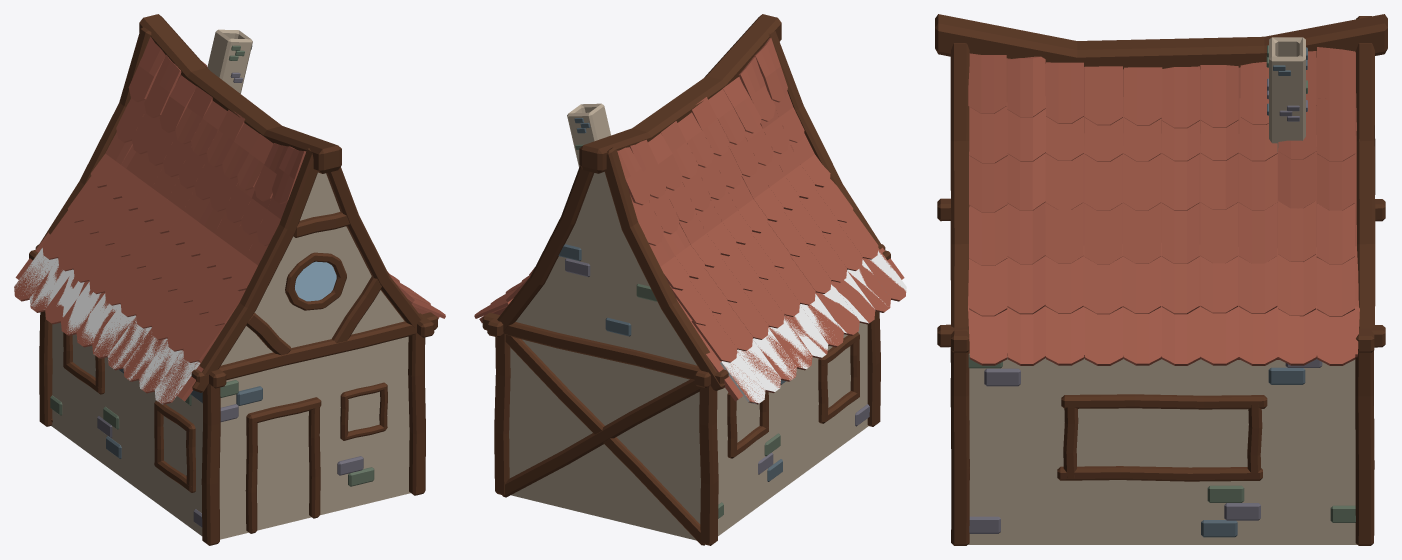
File: Haus_one.fbx
3 renders of one model, left to right at view 1: azimuth 30°, elevation 25°; view 2: azimuth 150°, elevation 25°; view 3: azimuth 270°, elevation 25°, orthographic. The views are drawn at different scales.
Visible parts, largest first — view 1: Cube.124, Plane, Plane.001, Plane.004, Cube.011, Cube.028, Cube.002, Cube, Cube.027, Cube.001, Cube.030, Cube.006 (+20 smaller); view 2: Cube.124, Plane.003, Plane.005, Plane.001, Cube.011, Cube.030, Cube.035, Cube.014, Cube.036, Cube.029, Cube.012, Cube.013 (+12 smaller); view 3: Cube.093, Plane.002, Cube.011, Cube.029, Cube.027, Cube.013, Cube.001, Cube.006, Plane.007, Cube.023, Cube.025, Cube.024 (+9 smaller).
Part boxes in pixels (x1,y1,x2,y2): Cube.124: [14, 36, 306, 404]; Plane: [219, 336, 410, 539]; Plane.001: [51, 322, 202, 535]; Plane.004: [221, 172, 404, 365]; Cube.011: [139, 14, 341, 173]; Cube.028: [192, 148, 317, 392]; Cube.002: [191, 312, 437, 385]; Cube: [201, 384, 220, 545]; Cube.027: [326, 167, 422, 336]; Cube.001: [408, 333, 425, 495]; Cube.030: [37, 27, 151, 247]; Cube.006: [207, 29, 252, 93]; Cube.124: [617, 38, 906, 404]; Plane.003: [509, 339, 700, 540]; Plane.005: [515, 172, 696, 365]; Plane.001: [717, 323, 868, 535]; Cube.011: [579, 14, 781, 173]; Cube.030: [604, 147, 724, 390]; Cube.035: [505, 335, 704, 545]; Cube.014: [482, 312, 728, 384]; Cube.036: [502, 379, 700, 497]; Cube.029: [497, 166, 593, 337]; Cube.012: [699, 385, 718, 545]; Cube.013: [494, 333, 510, 494]; Cube.093: [968, 47, 1355, 365]; Plane.002: [968, 356, 1357, 544]; Cube.011: [935, 14, 1387, 69]; Cube.029: [1356, 43, 1375, 346]; Cube.027: [950, 43, 969, 327]; Cube.013: [1355, 351, 1374, 545]; Cube.001: [950, 350, 969, 545]; Cube.006: [1269, 37, 1305, 151]; Plane.007: [968, 52, 1359, 359]; Cube.023: [1061, 394, 1267, 409]; Cube.025: [1057, 466, 1262, 481]; Cube.024: [1247, 397, 1262, 472].
Bounding box in the file's own units: 513 × 567 × 651.
